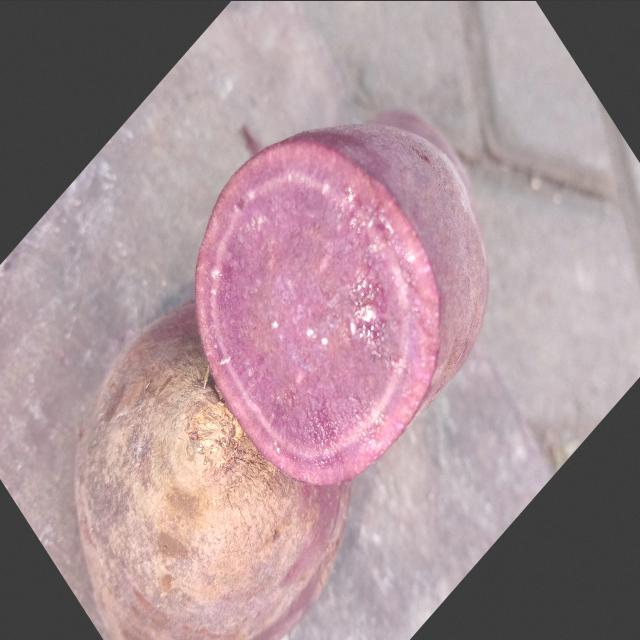Healthy Sweet Potato: (195, 138, 440, 483)
